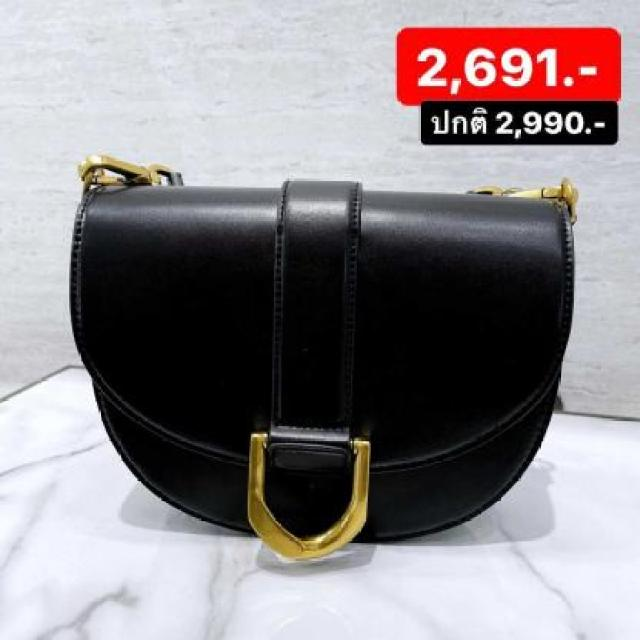Bag: (62, 133, 586, 575)
